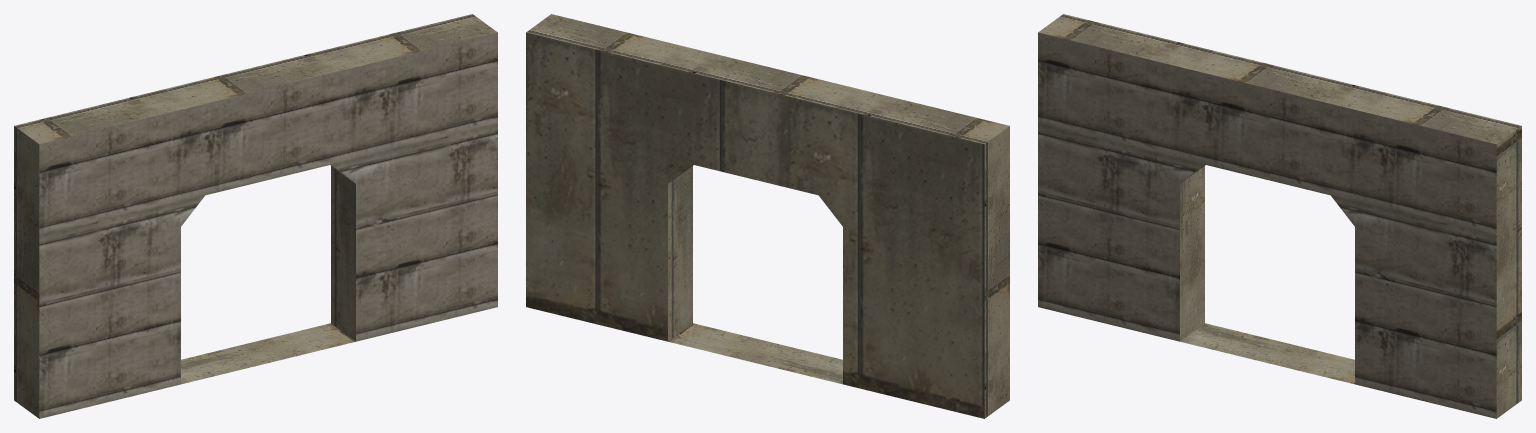
File: MO_ROUNDWALL_PASSAGE.fbx
3 views of the same model, side by side, from view 1: azimuth 30°, elevation 25°; view 2: azimuth 150°, elevation 25°; view 3: azimuth 330°, elevation 25° (orthographic).
Parts seen in each view (by area): view 1: MO_ROUNDWALL_PASSAGE; view 2: MO_ROUNDWALL_PASSAGE; view 3: MO_ROUNDWALL_PASSAGE.
Part boxes in pixels (box(x1,y1,x2,y2)): MO_ROUNDWALL_PASSAGE: box(14, 14, 497, 418); MO_ROUNDWALL_PASSAGE: box(526, 14, 1009, 418); MO_ROUNDWALL_PASSAGE: box(1038, 14, 1521, 418).
Bounding box in the file's own units: 10.48 × 6 × 1.
